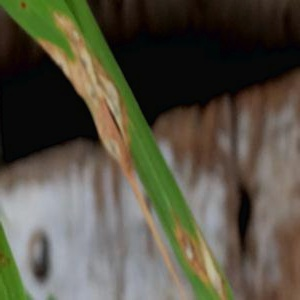Brown_Spot: (34, 13, 144, 168), (171, 223, 206, 268)
